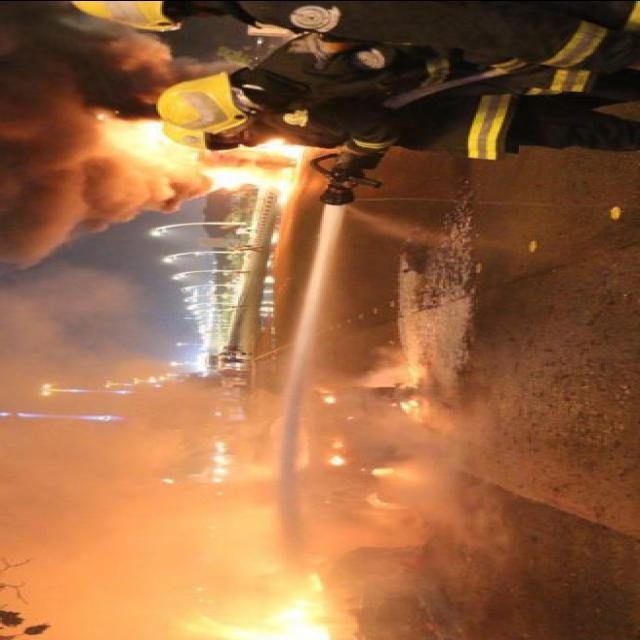Fire: (163, 379, 433, 640), (80, 108, 294, 192)
